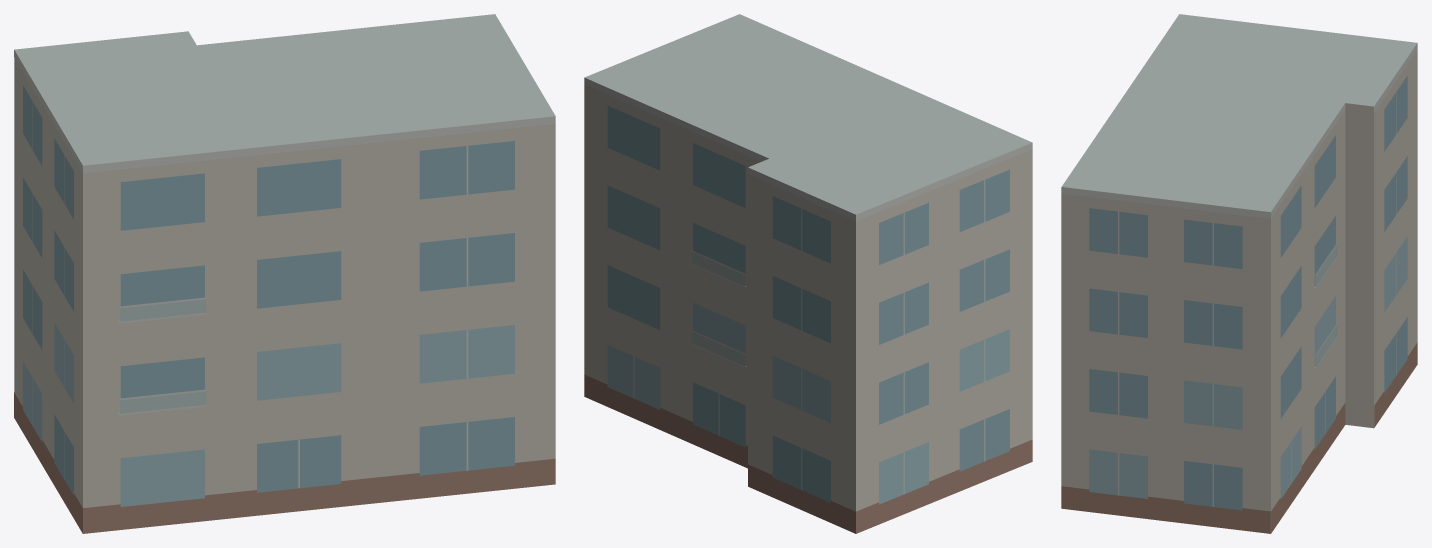
File: survey-upis-32877710.glb
The picture shows the model from 3 angles, left to right: view 1: azimuth 30°, elevation 25°; view 2: azimuth 150°, elevation 25°; view 3: azimuth 270°, elevation 25°; orthographic projection. The views are drawn at different scales.
Visible parts, largest first — view 1: survey-upis-32877710.tmp; view 2: survey-upis-32877710.tmp; view 3: survey-upis-32877710.tmp.
Part boxes in pixels (x1,y1,x2,y2): survey-upis-32877710.tmp: (14, 14, 555, 533); survey-upis-32877710.tmp: (584, 14, 1032, 533); survey-upis-32877710.tmp: (1061, 14, 1417, 533).
Bounding box in the file's own units: 15.73 × 11.9 × 11.95.
